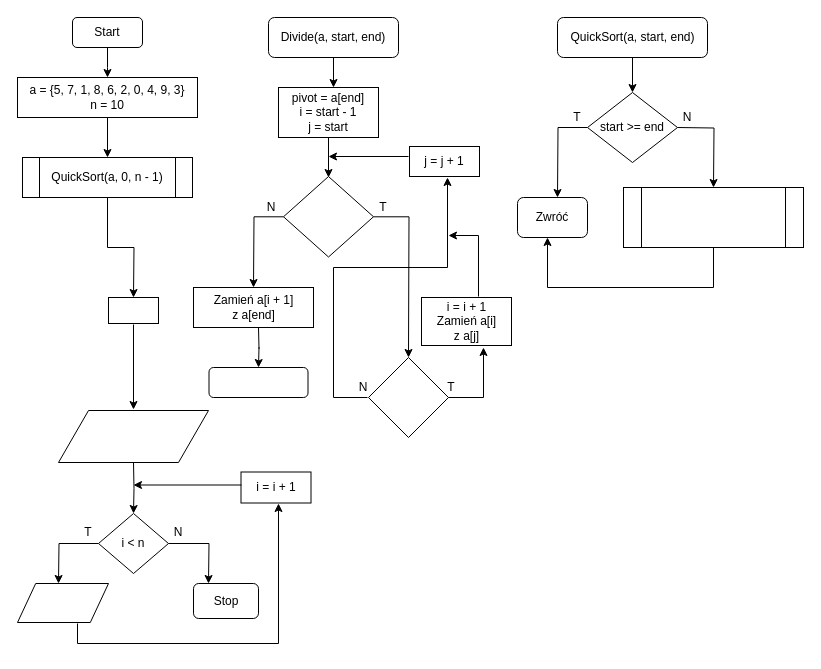
The diagram is 821 pixels wide and 669 high, and some of its shapes have lost their labels. Here are the shapes that lost their labels. From the top down, the centre of each, then its label:
point (328, 216): j <= end - 1
point (713, 217): p = Divide(a, start, end) QuickSort(a, start, p - 1) QuickSort(a, p + 1, end)
point (133, 310): i = 0
point (258, 382): Zwróć i + 1
point (408, 397): a[j] < pivot
point (133, 436): Pisz "Posortowane liczby szybko: "
point (62, 602): Pisz "a[i] "
